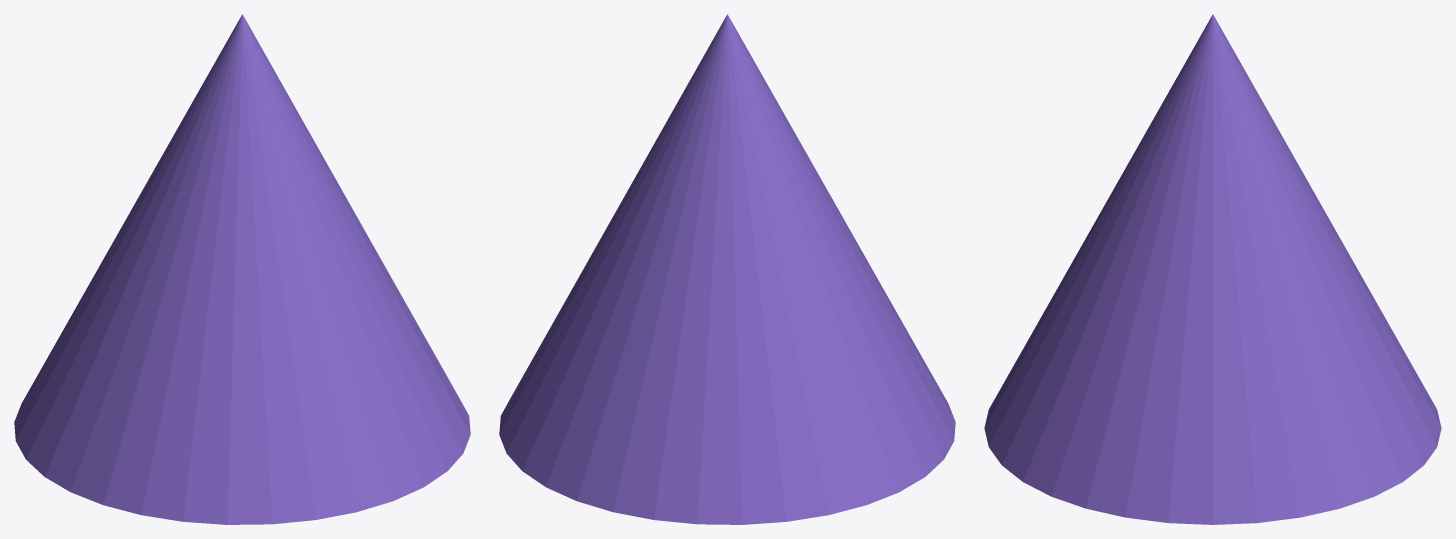
The model's file is Party Hat Purple.fbx.
The picture shows the model from 3 angles, left to right: view 1: azimuth 30°, elevation 25°; view 2: azimuth 150°, elevation 25°; view 3: azimuth 270°, elevation 25°; orthographic projection.
Parts seen in each view (by area): view 1: Cone; view 2: Cone; view 3: Cone.
Boxes of the visible parts, box(x1,y1,x2,y2) form: Cone: box(14, 14, 470, 524); Cone: box(499, 14, 955, 524); Cone: box(984, 14, 1441, 524).
Bounding box in the file's own units: 200 × 200 × 200.
